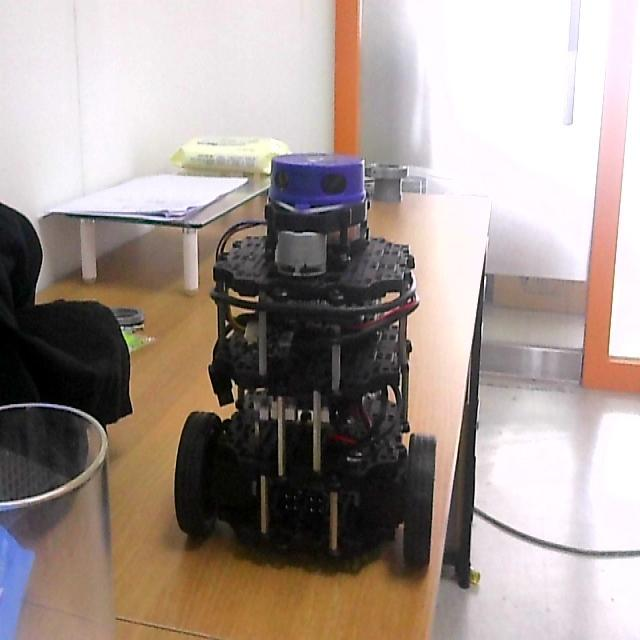turtle: (174, 152, 438, 578)
